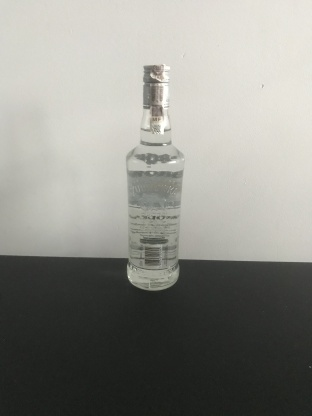nakretka: (141, 62, 172, 109)
